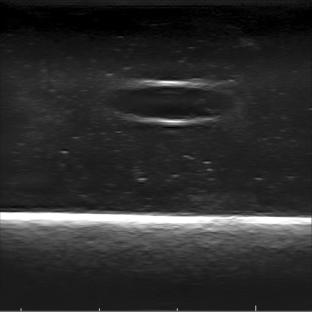vessel: (103, 79, 234, 127)
